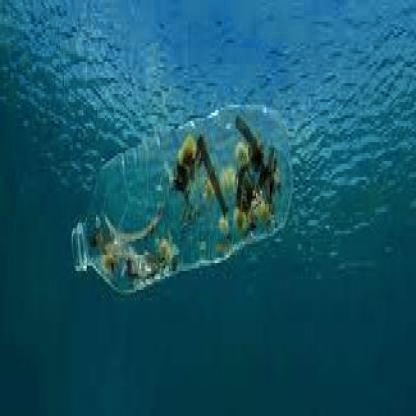pbottle: (66, 91, 296, 298)
